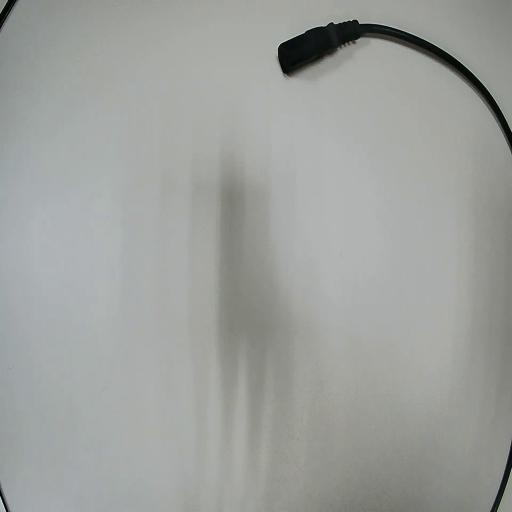wire: (279, 21, 511, 147)
